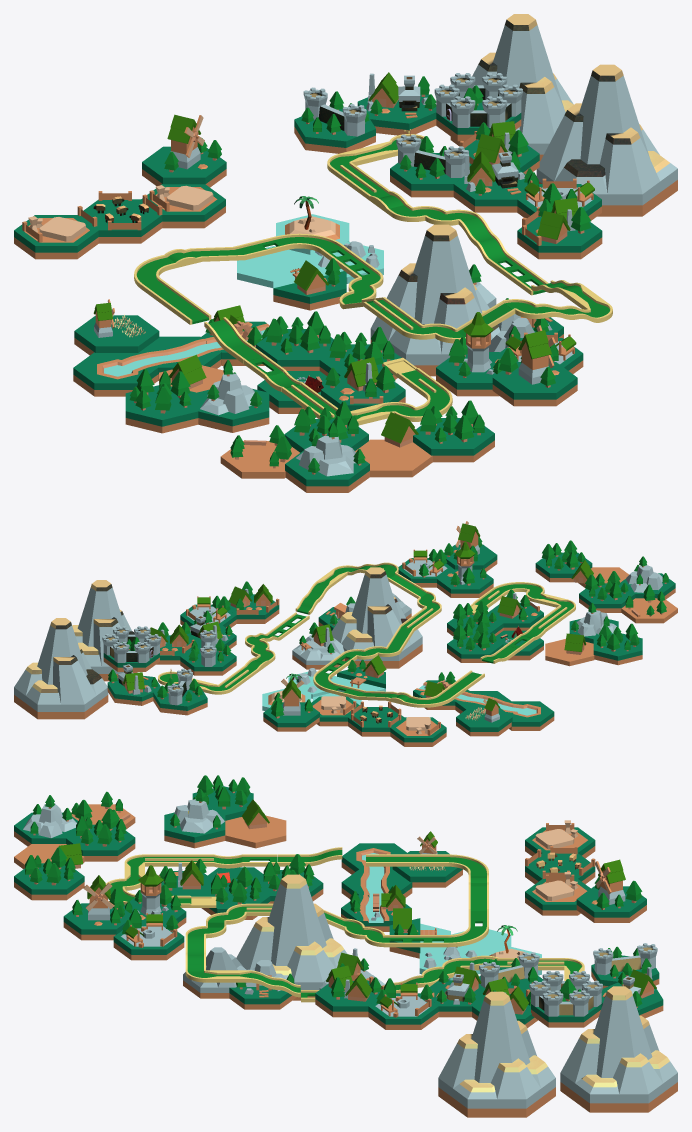
File: course_light_color.glb
The picture shows the model from 3 angles, top to bottom: view 1: azimuth 30°, elevation 25°; view 2: azimuth 150°, elevation 25°; view 3: azimuth 270°, elevation 25°; orthographic projection. The views are drawn at different scales.
Parts seen in each view (by area): view 1: mergedBlocks(Clone); view 2: mergedBlocks(Clone); view 3: mergedBlocks(Clone).
Boxes of the visible parts, x1,y1,x2,y2 form: mergedBlocks(Clone): (14, 14, 677, 492); mergedBlocks(Clone): (14, 521, 677, 746); mergedBlocks(Clone): (14, 775, 677, 1117).
Size of the model in its own units: 330 by 54.32 by 326.
22 materials, 10 textured.
